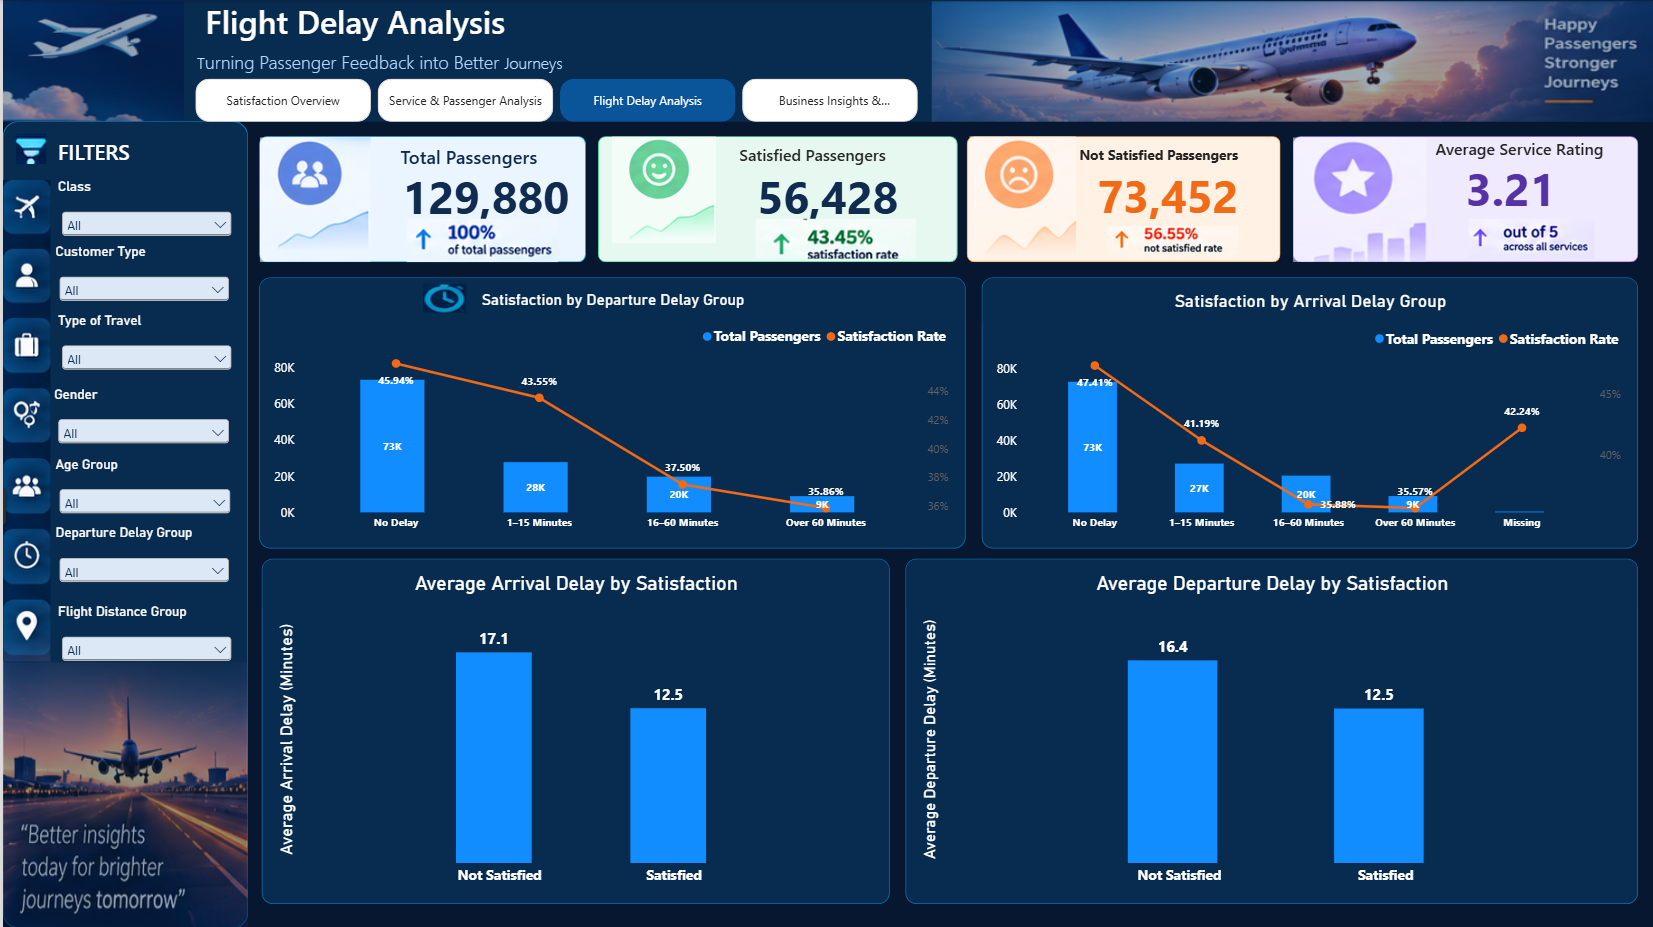

This screenshot's page, from the dashboard's own definition file:
{"tool":"powerbi","page":{"name":"Flight Delay Analysis","canvas":[1920,1080],"ordinal":2},"visuals":[{"type":"shape","box":[0,0,1920,141.7],"z":0},{"type":"textbox","box":[225,0,718.3,56.7],"z":1000},{"type":"textbox","box":[225,56.7,453.3,35],"z":2000},{"type":"image","box":[1080,1.7,840,140],"z":3000},{"type":"image","box":[0,1.7,210,140],"z":4000},{"type":"shape","box":[0,141.7,285,938.3],"z":5000},{"type":"textbox","box":[63.3,160,101.7,43.3],"z":6000},{"type":"slicer","title":"Class","fields":{"Values":["airline_satisfaction_powerbi.Class"]},"box":[63.3,208.3,206.7,68.3],"z":7000},{"type":"slicer","title":"Customer Type","fields":{"Values":["airline_satisfaction_powerbi.Customer Type"]},"box":[61.7,283.3,206.7,80],"z":8000},{"type":"slicer","title":"Type of Travel","fields":{"Values":["airline_satisfaction_powerbi.Type of Travel"]},"box":[63.3,363.3,206.7,80],"z":9000},{"type":"slicer","title":"Gender","fields":{"Values":["airline_satisfaction_powerbi.Gender"]},"box":[60,450,208.3,80],"z":10000},{"type":"slicer","title":"Departure Delay Group","fields":{"Values":["airline_satisfaction_powerbi.Departure Delay Group"]},"box":[61.7,610,206.7,80],"z":11000},{"type":"slicer","title":"Flight Distance Group","fields":{"Values":["airline_satisfaction_powerbi.Flight Distance Group"]},"box":[63.3,701.7,206.7,80],"z":12000},{"type":"shape","box":[298.3,158.3,380,146.7],"z":13000},{"type":"cardVisual","fields":{"Data":["Dax_measures.Total Passengers Display"]},"box":[444.8,190.1,233.7,73.3],"z":14000},{"type":"textbox","box":[461.7,166.7,173.3,41.7],"z":15000},{"type":"shape","box":[691.7,158.3,418.3,146.7],"z":16000},{"type":"shape","box":[1121.7,158.3,365,146.7],"z":17000},{"type":"shape","box":[1500,158.3,401.7,146.7],"z":18000},{"type":"cardVisual","fields":{"Data":["Dax_measures.Satisfied Passengers Display"]},"box":[856.7,190,206.7,73.3],"z":19000},{"type":"textbox","box":[856.7,166.7,206.7,41.7],"z":20000},{"type":"image","box":[703.3,158.3,130,125],"z":21000},{"type":"image","box":[1121.7,158.3,130,143.3],"z":22000},{"type":"cardVisual","fields":{"Data":["Dax_measures.Not Satisfied Passengers Display"]},"box":[1251.7,188.3,206.7,75],"z":23000},{"type":"textbox","box":[1251.7,168.3,206.7,41.7],"z":24000},{"type":"cardVisual","fields":{"Data":["Dax_measures.Average Service Rating"]},"box":[1666.7,183.3,175,71.7],"z":25000},{"type":"image","box":[1251.7,263.3,218.3,38.3],"z":26000},{"type":"image","box":[873.3,255,190,46.7],"z":27000},{"type":"image","box":[298.3,160,130,145],"z":28000},{"type":"image","box":[461.7,255,190,50],"z":29000},{"type":"textbox","box":[1666.7,160,206.7,41.7],"z":30000},{"type":"image","box":[1500,160,155,145],"z":31000},{"type":"image","box":[1666.7,255,223.3,46.7],"z":32000},{"type":"image","box":[0,770,285,310],"z":33000},{"type":"image","box":[0,210,55,560],"z":34000},{"type":"image","box":[10,155,45,35],"z":35000},{"type":"slicer","title":"Age Group","fields":{"Values":["airline_satisfaction_powerbi.Age Group"]},"box":[61.7,530,208.3,80],"z":36000},{"type":"lineClusteredColumnComboChart","title":"Satisfaction by Departure Delay Group","fields":{"Category":["airline_satisfaction_powerbi.Departure Delay Group"],"Y":["Dax_measures.Total Passengers"],"Y2":["Dax_measures.Satisfaction Rate"]},"box":[298.6,322.9,821.7,315],"z":37000},{"type":"image","box":[488.3,330,50,33.3],"z":38000},{"type":"lineClusteredColumnComboChart","title":"Satisfaction by Arrival Delay Group","fields":{"Category":["airline_satisfaction_powerbi.Arrival Delay Group"],"Y":["Dax_measures.Total Passengers"],"Y2":["Dax_measures.Satisfaction Rate"]},"box":[1138.3,323.3,763.3,315],"z":39000},{"type":"clusteredColumnChart","title":"Average Arrival Delay by Satisfaction","fields":{"Category":["airline_satisfaction_powerbi.satisfaction_label"],"Y":["Dax_measures.Average Arrival Delay"]},"box":[301.7,650,730,401.7],"z":40000},{"type":"clusteredColumnChart","title":"Average Departure Delay by Satisfaction","fields":{"Category":["airline_satisfaction_powerbi.satisfaction_label"],"Y":["Dax_measures.Average Departure Delay"]},"box":[1050,650,851.7,401.7],"z":41000},{"type":"pageNavigator","box":[224.6,91.7,842.4,50.6],"z":42001}]}

Visuals, with their boxes in screenshot pixels (x1, y1, x2, y2), scaled from the page's 1920x1080 canvas onto the 1653x927 screenshot:
shape: (x1=0, y1=0, x2=1652, y2=122)
textbox: (x1=194, y1=0, x2=812, y2=49)
textbox: (x1=194, y1=49, x2=584, y2=79)
image: (x1=930, y1=1, x2=1652, y2=122)
image: (x1=0, y1=1, x2=181, y2=122)
shape: (x1=0, y1=122, x2=245, y2=926)
textbox: (x1=54, y1=137, x2=142, y2=174)
"Class" slicer: (x1=54, y1=179, x2=232, y2=237)
"Customer Type" slicer: (x1=53, y1=243, x2=231, y2=312)
"Type of Travel" slicer: (x1=54, y1=312, x2=232, y2=380)
"Gender" slicer: (x1=52, y1=386, x2=231, y2=455)
"Departure Delay Group" slicer: (x1=53, y1=524, x2=231, y2=592)
"Flight Distance Group" slicer: (x1=54, y1=602, x2=232, y2=671)
shape: (x1=257, y1=136, x2=584, y2=262)
cardVisual - Dax_measures.Total Passengers Display: (x1=383, y1=163, x2=584, y2=226)
textbox: (x1=397, y1=143, x2=547, y2=179)
shape: (x1=596, y1=136, x2=956, y2=262)
shape: (x1=966, y1=136, x2=1280, y2=262)
shape: (x1=1291, y1=136, x2=1637, y2=262)
cardVisual - Dax_measures.Satisfied Passengers Display: (x1=738, y1=163, x2=916, y2=226)
textbox: (x1=738, y1=143, x2=916, y2=179)
image: (x1=605, y1=136, x2=717, y2=243)
image: (x1=966, y1=136, x2=1078, y2=259)
cardVisual - Dax_measures.Not Satisfied Passengers Display: (x1=1078, y1=162, x2=1256, y2=226)
textbox: (x1=1078, y1=144, x2=1256, y2=180)
cardVisual - Dax_measures.Average Service Rating: (x1=1435, y1=157, x2=1586, y2=219)
image: (x1=1078, y1=226, x2=1266, y2=259)
image: (x1=752, y1=219, x2=915, y2=259)
image: (x1=257, y1=137, x2=369, y2=262)
image: (x1=397, y1=219, x2=561, y2=262)
textbox: (x1=1435, y1=137, x2=1613, y2=173)
image: (x1=1291, y1=137, x2=1425, y2=262)
image: (x1=1435, y1=219, x2=1627, y2=259)
image: (x1=0, y1=661, x2=245, y2=926)
image: (x1=0, y1=180, x2=47, y2=661)
image: (x1=9, y1=133, x2=47, y2=163)
"Age Group" slicer: (x1=53, y1=455, x2=232, y2=524)
"Satisfaction by Departure Delay Group" lineClusteredColumnComboChart: (x1=257, y1=277, x2=965, y2=548)
image: (x1=420, y1=283, x2=463, y2=312)
"Satisfaction by Arrival Delay Group" lineClusteredColumnComboChart: (x1=980, y1=277, x2=1637, y2=548)
"Average Arrival Delay by Satisfaction" clusteredColumnChart: (x1=260, y1=558, x2=888, y2=903)
"Average Departure Delay by Satisfaction" clusteredColumnChart: (x1=904, y1=558, x2=1637, y2=903)
pageNavigator: (x1=193, y1=79, x2=919, y2=122)
